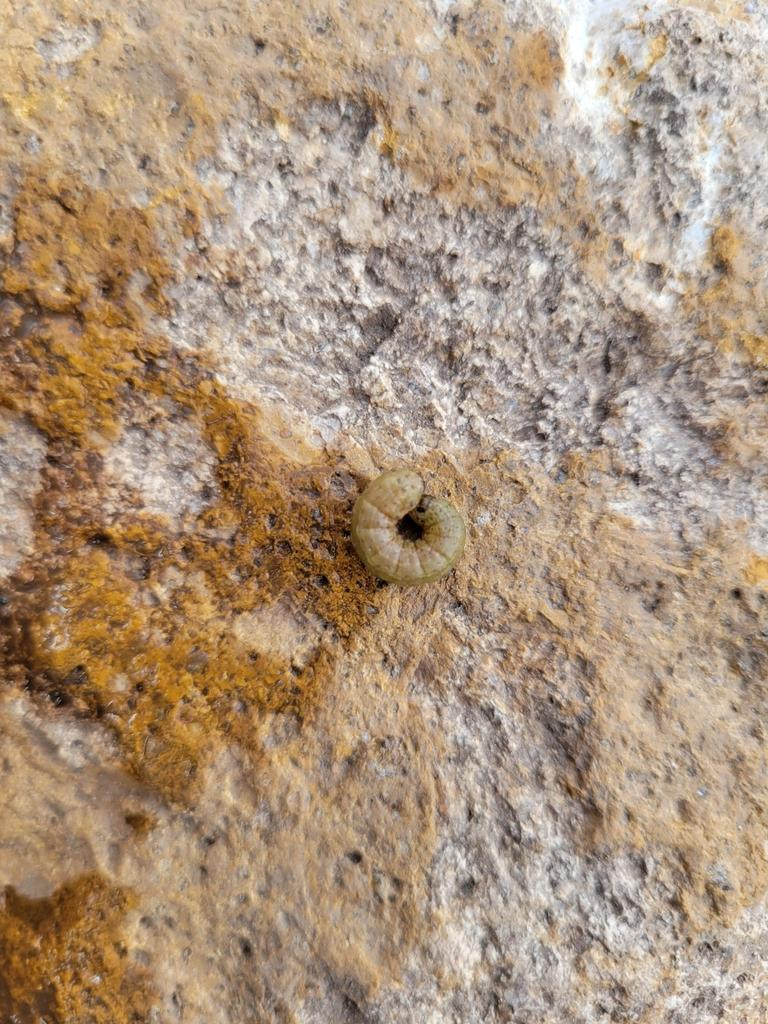caterpillars: (310, 443, 511, 621)
